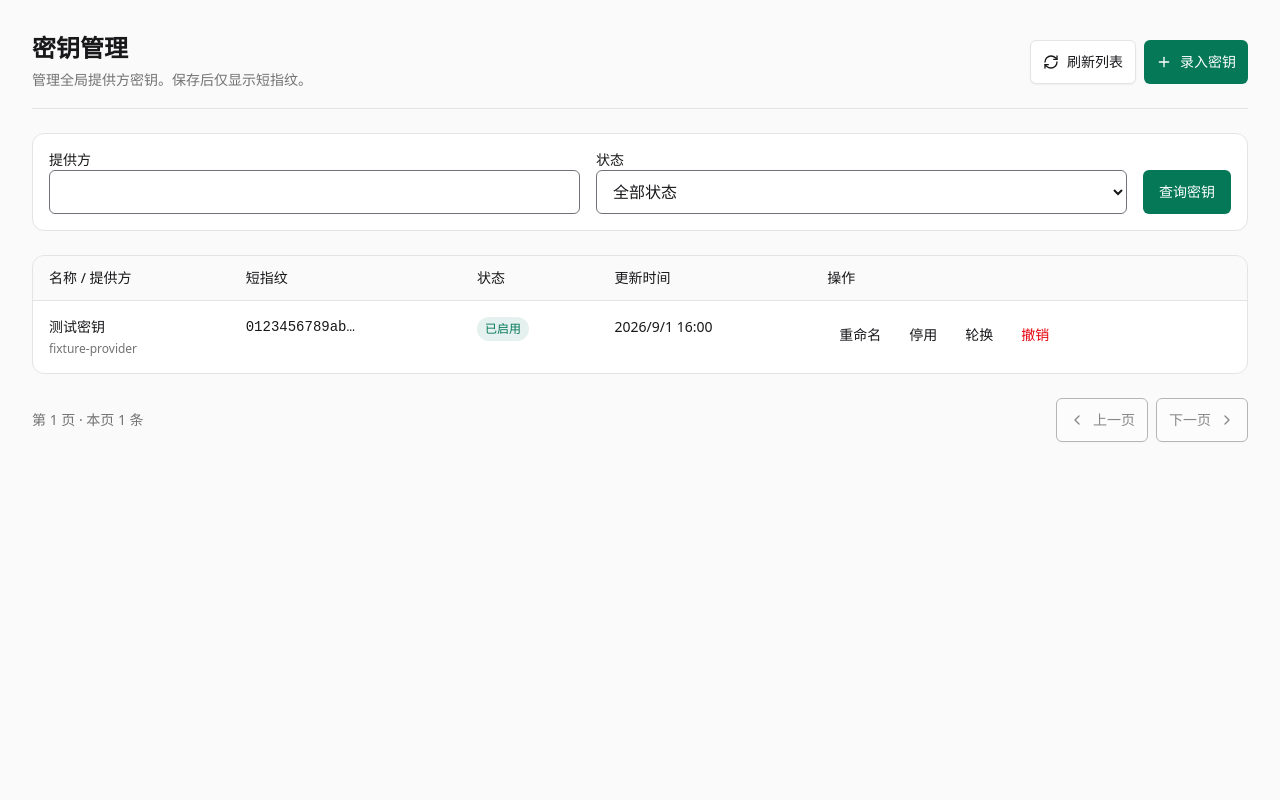
Scenario: admin/api-keys safe interface › [disable-enable] requires reselection after stale CAS and never enables a revoked key
This screenshot has width=1280, height=800.
Check: the text "第 1 页 · 本页 1 条" is shown, box left=32, top=410, right=144, bottom=430
Click the button "停用": (923, 335) left=897, top=313, right=949, bottom=357
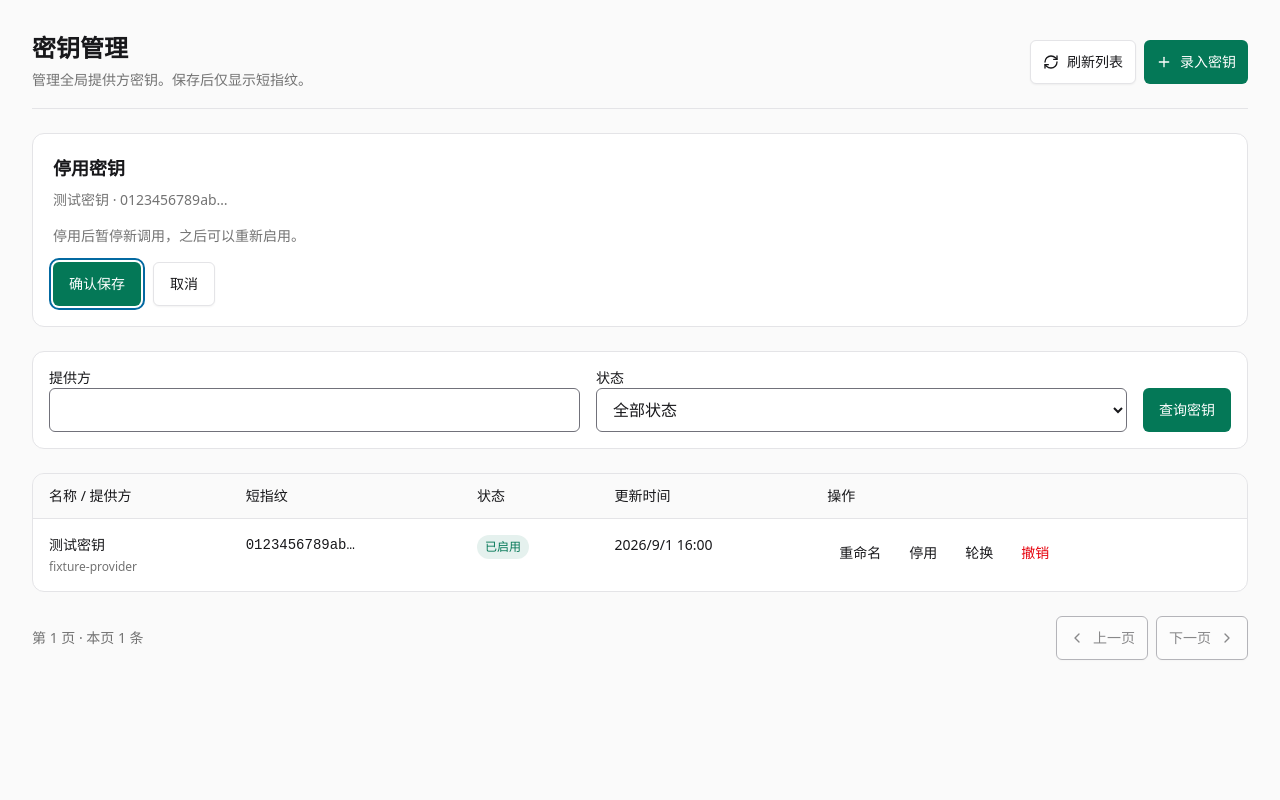
Submit the form named "停用密钥", box left=53, top=226, right=305, bottom=306
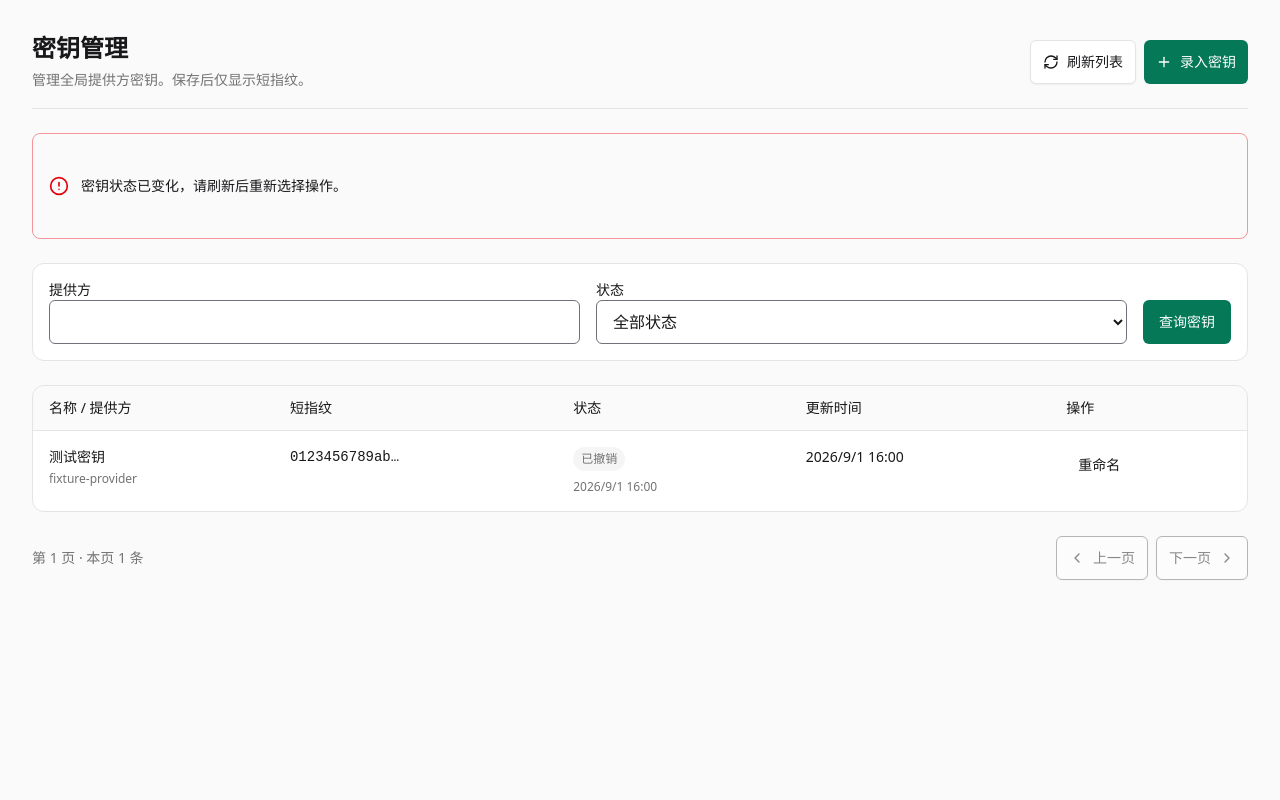
Check: the text "密钥状态已变化，请刷新后重新选择操作。" is shown, box left=81, top=174, right=347, bottom=198
Check: the heading "停用密钥" is gone
Check: the text "已撤销" is shown, box left=573, top=447, right=625, bottom=471
